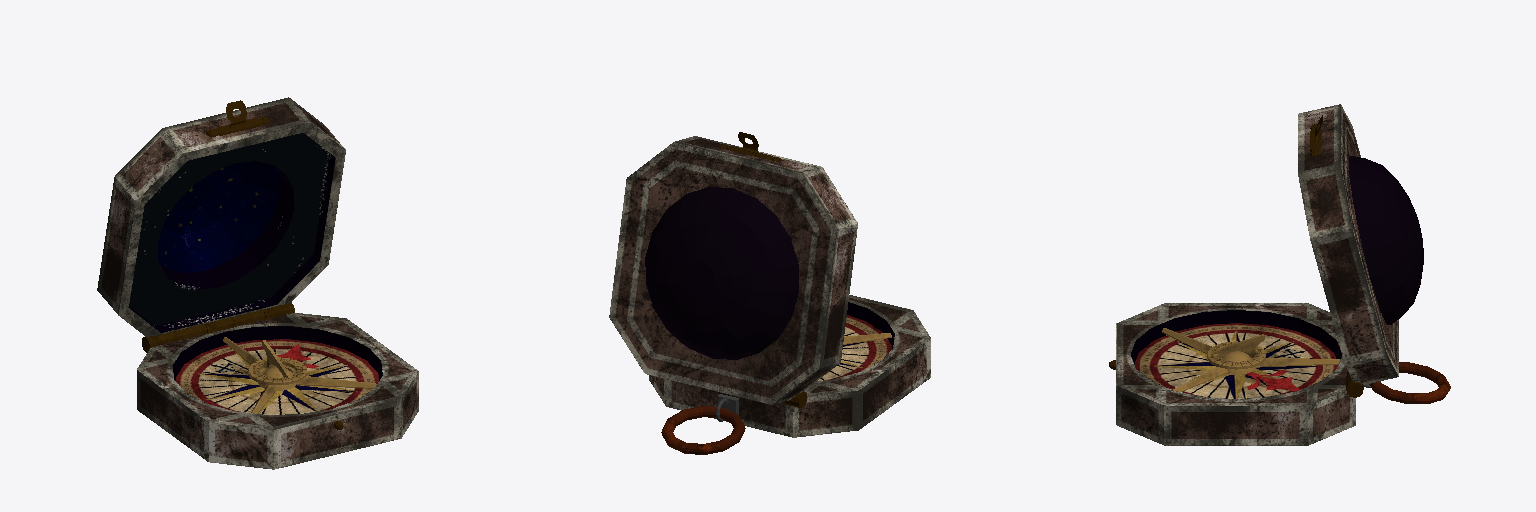
3 views of the same model, side by side, from view 1: azimuth 30°, elevation 25°; view 2: azimuth 150°, elevation 25°; view 3: azimuth 270°, elevation 25° (orthographic).
Visible parts, largest first — view 1: Compass_Compass_Texture_0; view 2: Compass_Compass_Texture_0; view 3: Compass_Compass_Texture_0.
Boxes of the visible parts, box(x1,y1,x2,y2) form: Compass_Compass_Texture_0: box(97, 97, 418, 469); Compass_Compass_Texture_0: box(609, 132, 930, 454); Compass_Compass_Texture_0: box(1109, 104, 1450, 445).
Size of the model in its own units: 3.13 by 3.94 by 4.41.
1 materials, 1 textured.